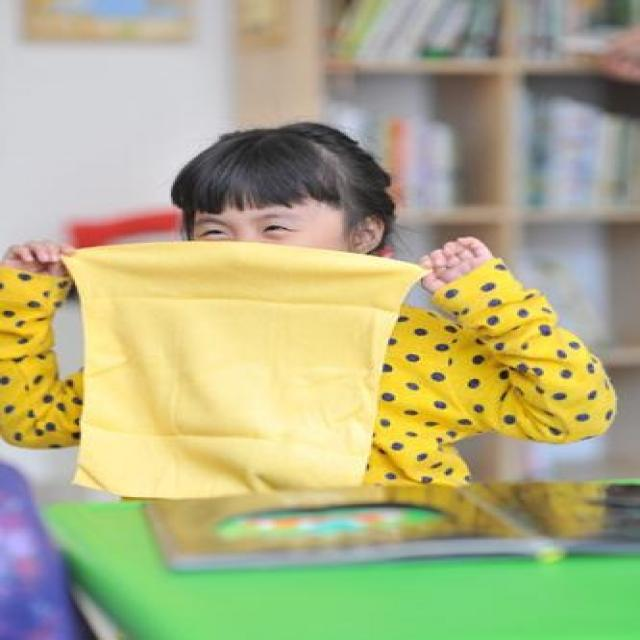nomask: (187, 178, 343, 330)
